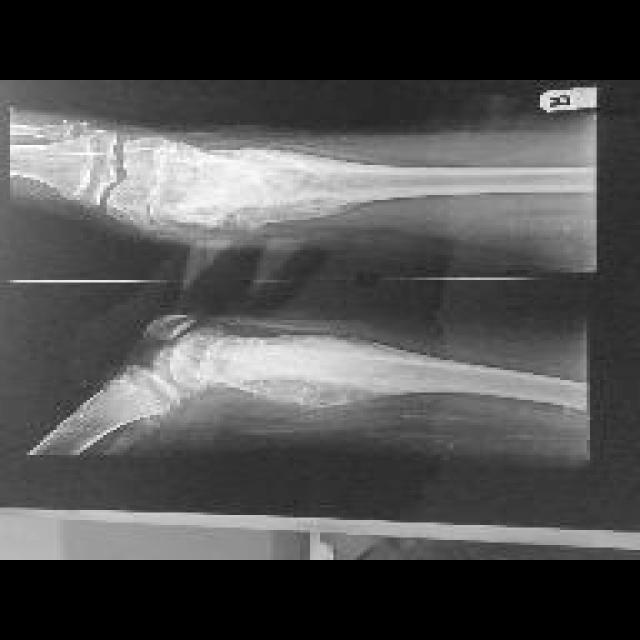bone-cancer: (127, 141, 375, 227), (200, 334, 427, 407)
